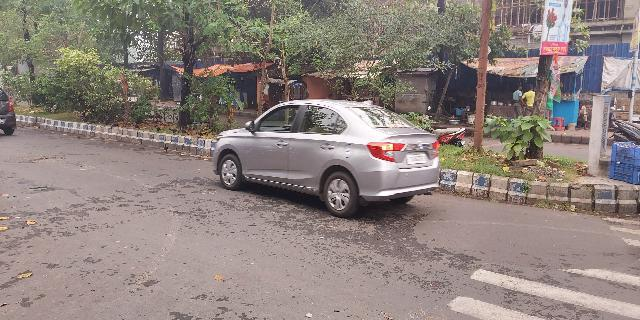Car: (210, 104, 445, 212)
